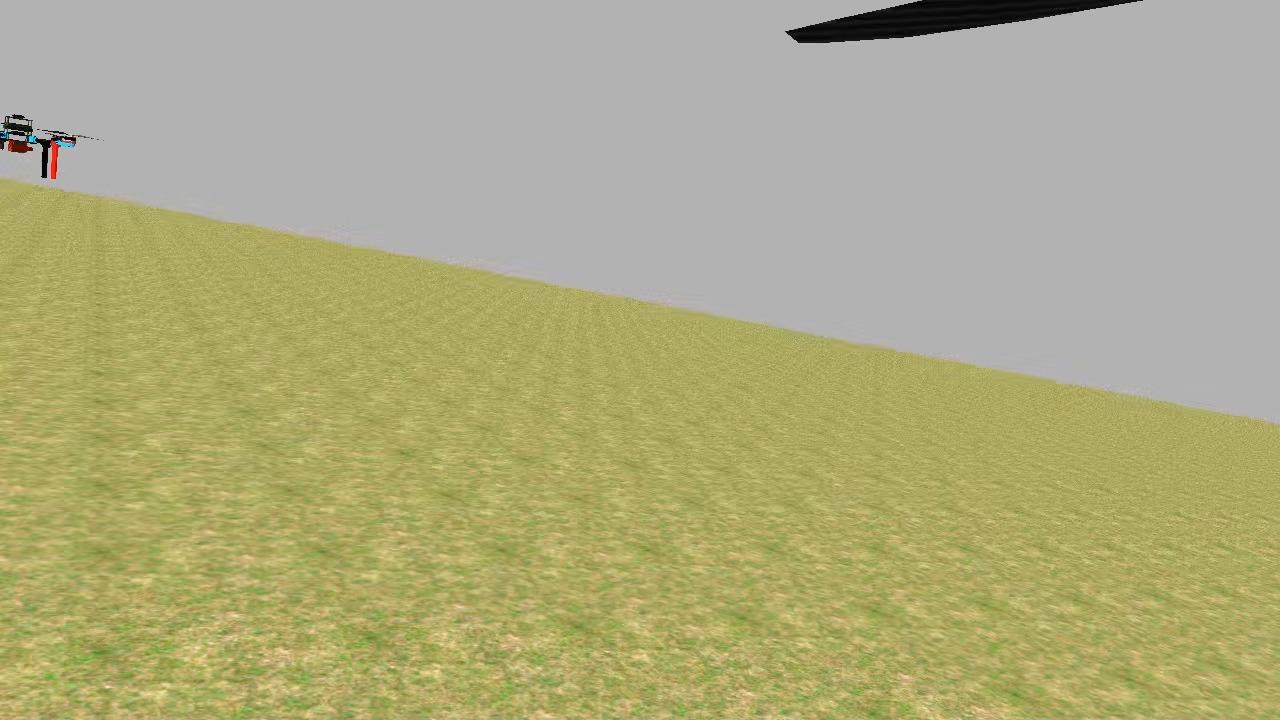UAV: (0, 112, 88, 186)
